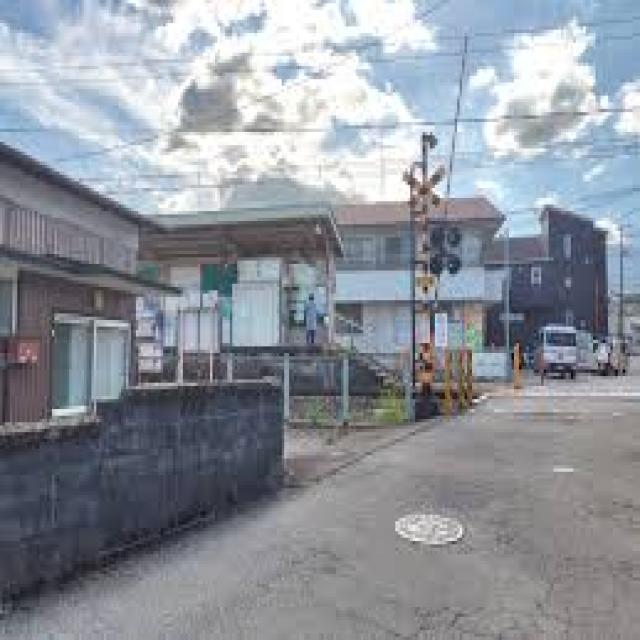manhole: (395, 511, 464, 545)
